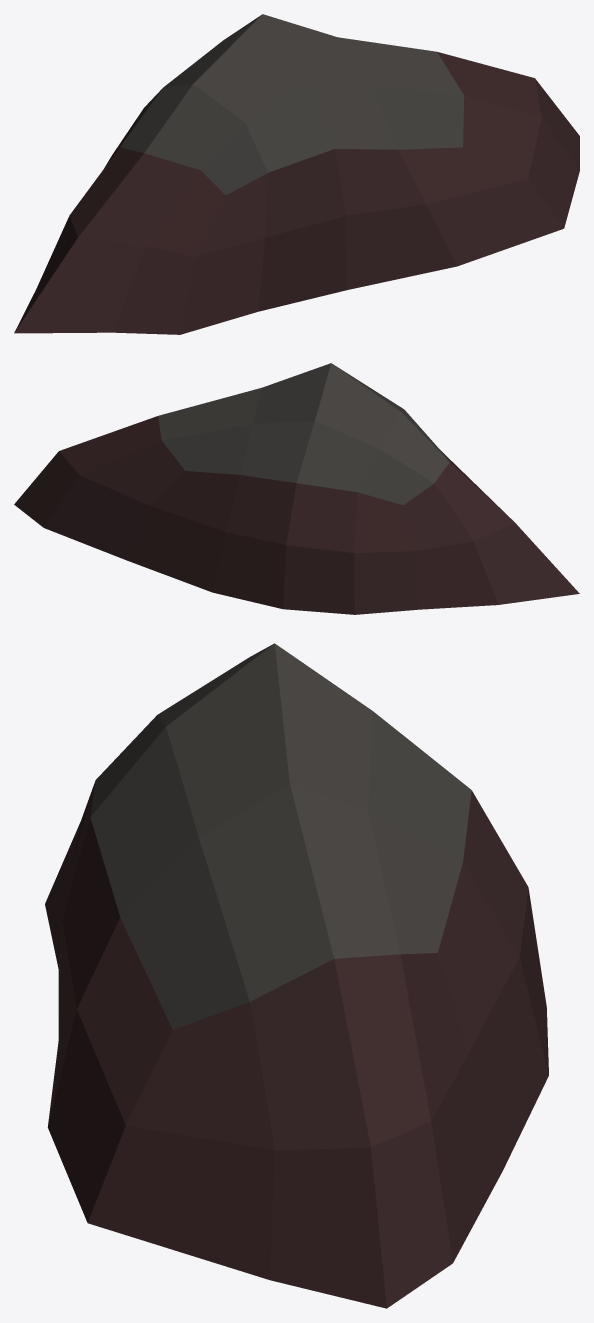
File: SM_Mountain_T1.fbx
3 views of the same model, one above another, from view 1: azimuth 30°, elevation 25°; view 2: azimuth 150°, elevation 25°; view 3: azimuth 270°, elevation 25° (orthographic). The views are drawn at different scales.
Visible parts, largest first — view 1: SM_Mountain_T1; view 2: SM_Mountain_T1; view 3: SM_Mountain_T1.
Boxes of the visible parts, x1=… form: SM_Mountain_T1: x1=14, y1=14, x2=579, y2=334; SM_Mountain_T1: x1=14, y1=363, x2=579, y2=614; SM_Mountain_T1: x1=45, y1=643, x2=548, y2=1308.
Bounding box in the file's own units: 1797 × 638 × 760.
